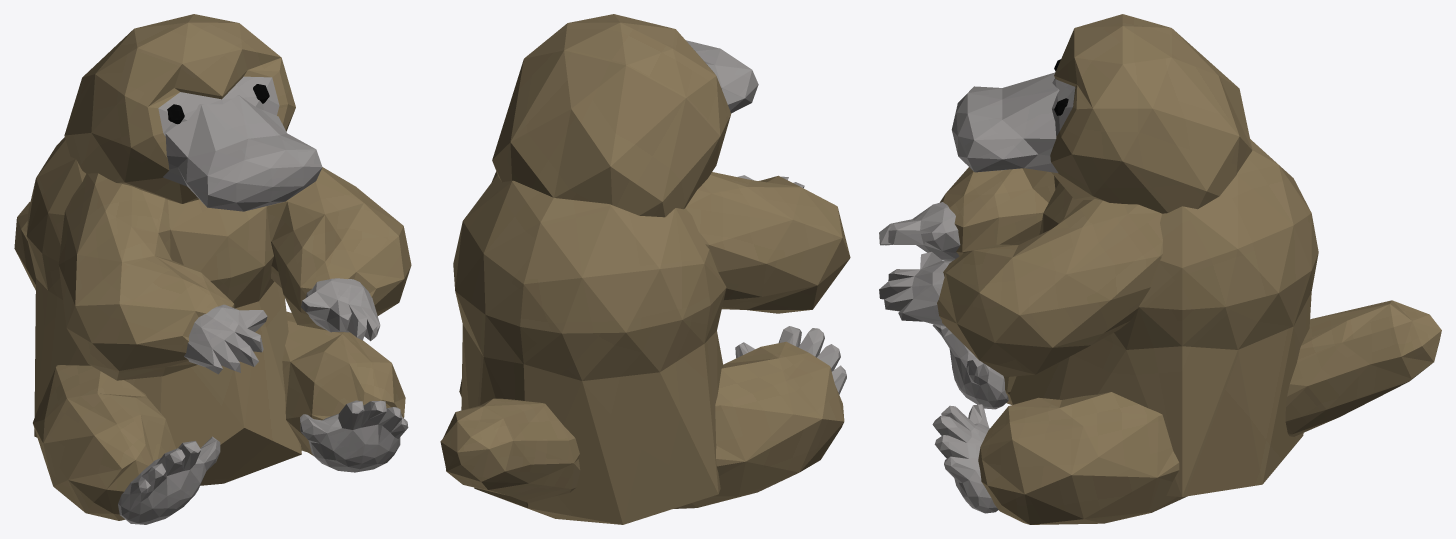
The model's file is platypus.obj.
The picture shows the model from 3 angles, left to right: view 1: azimuth 30°, elevation 25°; view 2: azimuth 150°, elevation 25°; view 3: azimuth 270°, elevation 25°; orthographic projection. The views are drawn at different scales.
Parts seen in each view (by area): view 1: platypus; view 2: platypus; view 3: platypus.
Part boxes in pixels (x1=…): platypus: x1=14, y1=14, x2=411, y2=524; platypus: x1=440, y1=14, x2=850, y2=524; platypus: x1=879, y1=14, x2=1441, y2=524.
Size of the model in its own units: 292 by 360 by 412.
